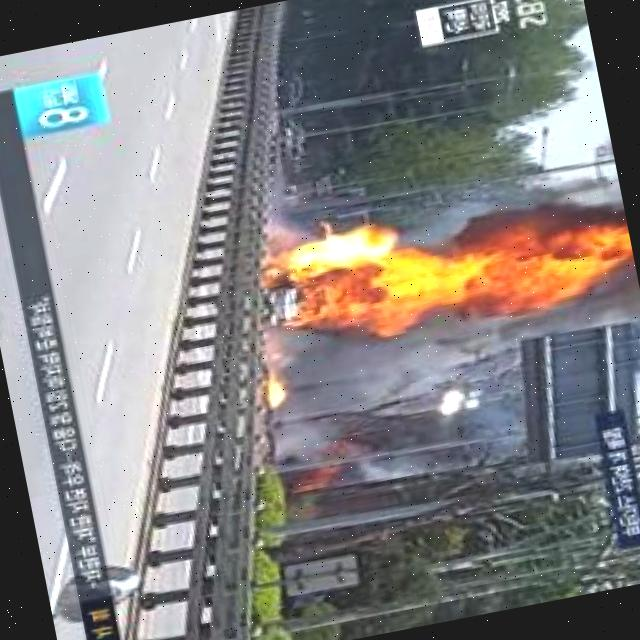fire: (400, 213, 640, 341), (278, 225, 422, 361), (260, 365, 284, 408)
